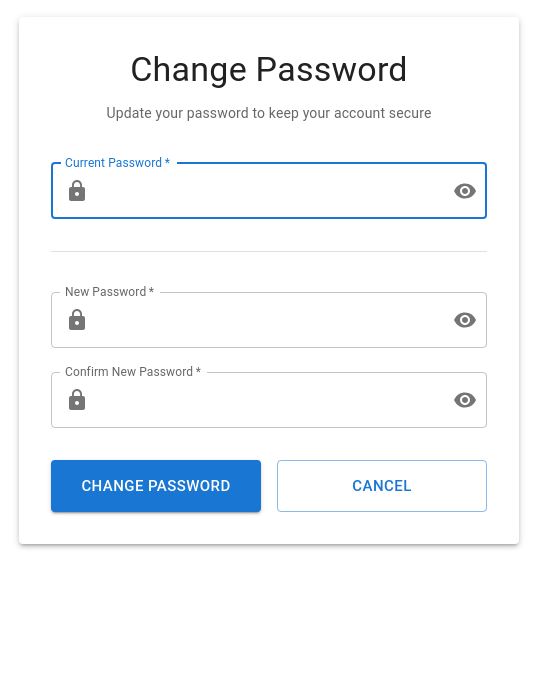
it: PasswordChangeForm › handles password change error
Type "wrongpass" into the password field labelled "Current Password *" at (267, 191), box x1=97 y1=163 x2=437 y2=219
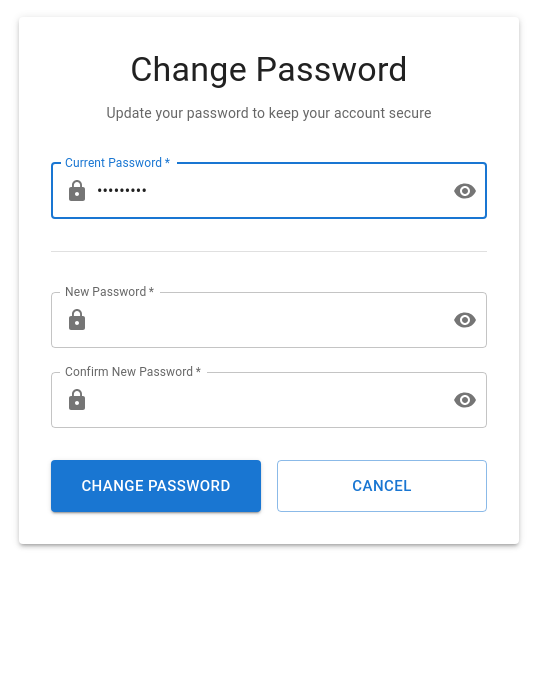
Type "NewPassword123!" into the password field labelled "New Password *" at (267, 320), box x1=97 y1=292 x2=437 y2=348
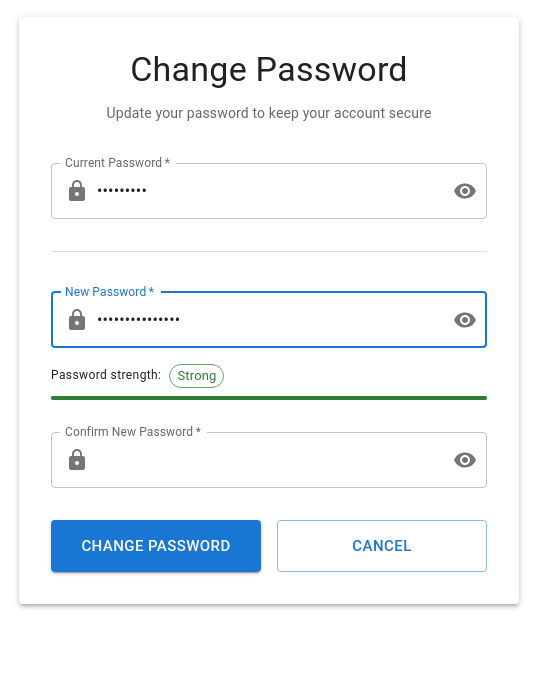
Type "NewPassword123!" into the password field labelled "Confirm New Password *" at (267, 460), box x1=97 y1=432 x2=437 y2=488
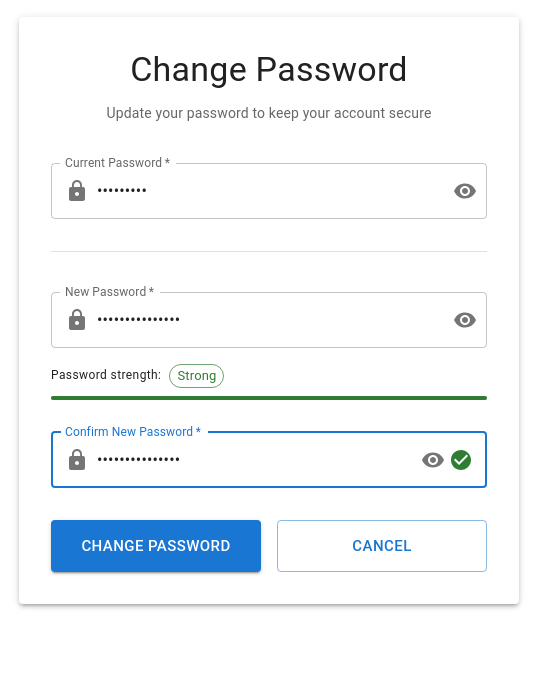
Click the button "Change Password" at (156, 546), box x1=51 y1=520 x2=261 y2=572
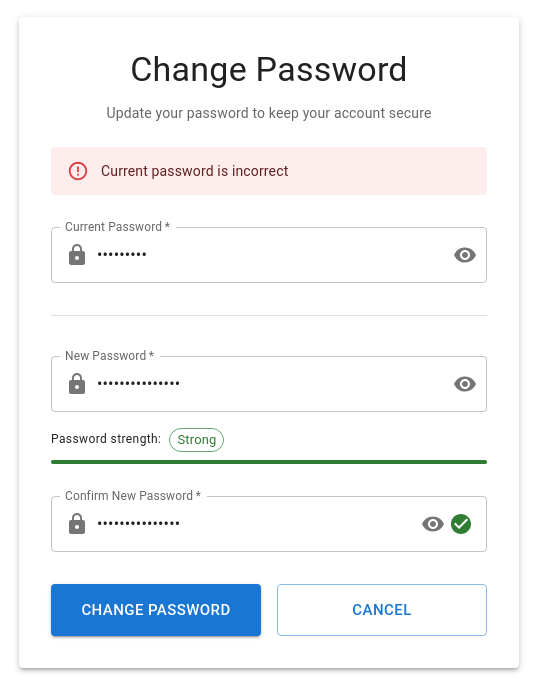
Expected: the text "Current password is incorrect" is shown, x1=101 y1=163 x2=288 y2=179
